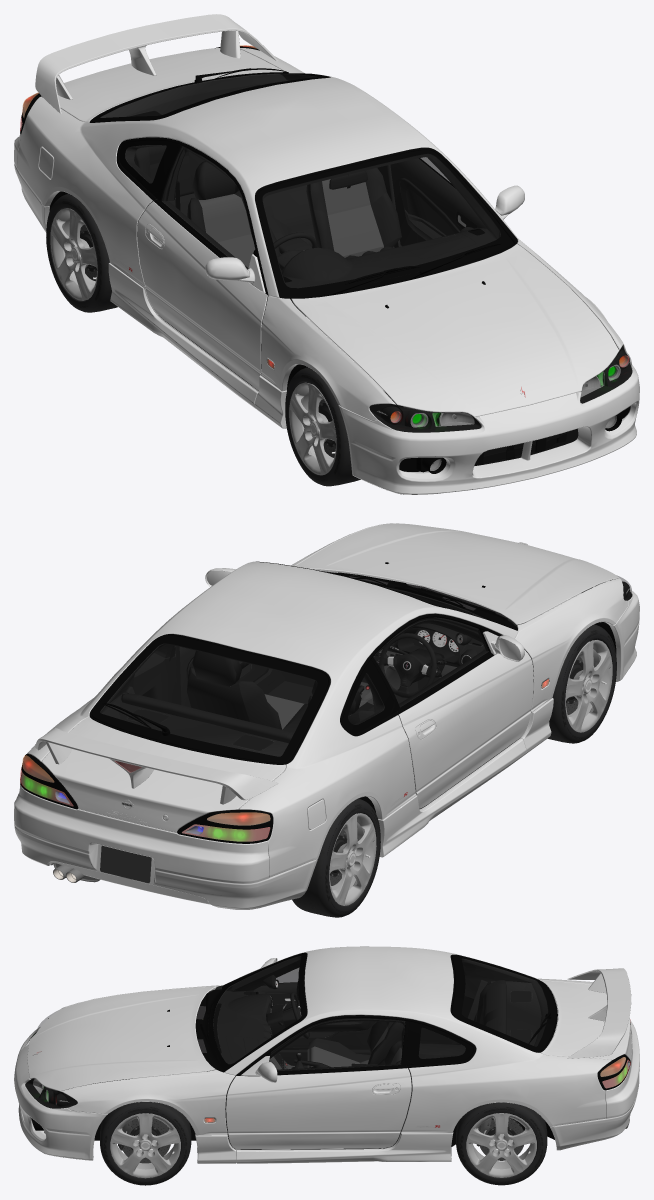
File: car-sable-250.glb
3 views of the same model, one above another, from view 1: azimuth 30°, elevation 25°; view 2: azimuth 150°, elevation 25°; view 3: azimuth 270°, elevation 25° (orthographic). The views are drawn at different scales.
Visible parts, largest first — view 1: N:Hood6_Mesh_021_M_Badge_Max_006, N:Interior5_Mesh_006_M_Opaque_PlasticSmoothBlack_Max2_N:M_In, N:Glass6_Mesh_005_M_Opaque_PlasticRoughBlack_Max5_N:M_Glass_, N:BumperF6_Mesh_011_M_Chassis_Max_009, N:Chassis6_Mesh_M_Opaque_PlasticSmoothBlack_Max_N:M_CarPaint, N:FendersR6_Mesh_018_M_Badge_Max_003, N:DoorR4_Mesh_003_M_InteriorTiledSimple_Max3_N:M_CarPaint_Ma, N:FenderFR6_Mesh_015_M_Opaque_PlasticRoughBlack_Max_008_N:M_, N:Boot6_Mesh_008_M_Badge_Max_004, N:Spoiler6_Mesh_027_M_Light_Max_005, N:DoorR_Glass4_Mesh_004_M_Opaque_PlasticRoughBlack_Max1_N:M_, N:Chassis6_Mesh_M_Opaque_PlasticSmoothBlack_Max_N:M_Opaque_P (+21 smaller); view 2: N:Interior5_Mesh_006_M_Opaque_PlasticSmoothBlack_Max2_N:M_In, N:Chassis6_Mesh_M_Opaque_PlasticSmoothBlack_Max_N:M_CarPaint, N:FendersR6_Mesh_018_M_Badge_Max_003, N:BumperR6_Mesh_012_M_Opaque_PlasticRoughBlack_Max_005_N:M_C, N:Hood6_Mesh_021_M_Badge_Max_006, N:Glass6_Mesh_005_M_Opaque_PlasticRoughBlack_Max6_N:M_Glass_, N:DoorR4_Mesh_003_M_InteriorTiledSimple_Max3_N:M_CarPaint_Ma, N:Boot6_Mesh_008_M_Badge_Max_004, N:DoorR_Glass4_Mesh_004_M_Opaque_PlasticRoughBlack_Max1_N:M_, N:FenderFR6_Mesh_015_M_Opaque_PlasticRoughBlack_Max_008_N:M_, N:Glass6_Mesh_005_M_Opaque_PlasticRoughBlack_Max8_N:M_Glass_, N:Chassis6_Mesh_M_Opaque_PlasticSmoothBlack_Max_N:M_Opaque_P (+20 smaller); view 3: N:Interior5_Mesh_006_M_Opaque_PlasticSmoothBlack_Max2_N:M_In, N:FendersR6_Mesh_018_M_Badge_Max_003, N:Hood6_Mesh_021_M_Badge_Max_006, N:DoorL4_Mesh_001_M_InteriorTiledSimple_Max3_N:M_CarPaint_Ma, N:Chassis6_Mesh_M_Opaque_PlasticSmoothBlack_Max_N:M_CarPaint, N:Glass6_Mesh_005_M_Opaque_PlasticRoughBlack_Max5_N:M_Glass_, N:FenderFL6_Mesh_014_M_Opaque_PlasticRoughBlack_Max_007_N:M_, N:DoorL_Glass4_Mesh_002_M_Opaque_PlasticRoughBlack_Max1_N:M_, N:Glass6_Mesh_005_M_Opaque_PlasticRoughBlack_Max6_N:M_Glass_, N:Skirts6_Mesh_026_M_Opaque_PlasticRoughBlack_Max_010_N:M_Ca, N:BumperF6_Mesh_011_M_Chassis_Max_009, N:Boot6_Mesh_008_M_Badge_Max_004 (+21 smaller).
Boxes of the visible parts, <box> form: N:Hood6_Mesh_021_M_Badge_Max_006: <box>291,244,619,417</box>; N:Interior5_Mesh_006_M_Opaque_PlasticSmoothBlack_Max2_N:M_In: <box>101,74,500,390</box>; N:Glass6_Mesh_005_M_Opaque_PlasticRoughBlack_Max5_N:M_Glass_: <box>263,154,500,287</box>; N:BumperF6_Mesh_011_M_Chassis_Max_009: <box>338,362,639,494</box>; N:Chassis6_Mesh_M_Opaque_PlasticSmoothBlack_Max_N:M_CarPaint: <box>61,52,619,391</box>; N:FendersR6_Mesh_018_M_Badge_Max_003: <box>17,48,517,297</box>; N:DoorR4_Mesh_003_M_InteriorTiledSimple_Max3_N:M_CarPaint_Ma: <box>137,201,267,390</box>; N:FenderFR6_Mesh_015_M_Opaque_PlasticRoughBlack_Max_008_N:M_: <box>261,295,395,420</box>; N:Boot6_Mesh_008_M_Badge_Max_004: <box>41,48,283,121</box>; N:Spoiler6_Mesh_027_M_Light_Max_005: <box>35,14,278,113</box>; N:DoorR_Glass4_Mesh_004_M_Opaque_PlasticRoughBlack_Max1_N:M_: <box>162,146,254,268</box>; N:Chassis6_Mesh_M_Opaque_PlasticSmoothBlack_Max_N:M_Opaque_P: <box>89,68,517,303</box>; N:Interior5_Mesh_006_M_Opaque_PlasticSmoothBlack_Max2_N:M_In: <box>100,588,521,809</box>; N:Chassis6_Mesh_M_Opaque_PlasticSmoothBlack_Max_N:M_CarPaint: <box>40,561,609,809</box>; N:FendersR6_Mesh_018_M_Badge_Max_003: <box>27,563,517,877</box>; N:BumperR6_Mesh_012_M_Opaque_PlasticRoughBlack_Max_005_N:M_C: <box>14,784,317,909</box>; N:Hood6_Mesh_021_M_Badge_Max_006: <box>295,523,618,624</box>; N:Glass6_Mesh_005_M_Opaque_PlasticRoughBlack_Max6_N:M_Glass_: <box>100,643,316,756</box>; N:DoorR4_Mesh_003_M_InteriorTiledSimple_Max3_N:M_CarPaint_Ma: <box>398,631,533,808</box>; N:Boot6_Mesh_008_M_Badge_Max_004: <box>41,717,285,832</box>; N:DoorR_Glass4_Mesh_004_M_Opaque_PlasticRoughBlack_Max1_N:M_: <box>373,617,488,706</box>; N:FenderFR6_Mesh_015_M_Opaque_PlasticRoughBlack_Max_008_N:M_: <box>514,578,628,712</box>; N:Glass6_Mesh_005_M_Opaque_PlasticRoughBlack_Max8_N:M_Glass_: <box>91,635,328,763</box>; N:Chassis6_Mesh_M_Opaque_PlasticSmoothBlack_Max_N:M_Opaque_P: <box>89,561,516,764</box>; N:Interior5_Mesh_006_M_Opaque_PlasticSmoothBlack_Max2_N:M_In: <box>213,956,547,1149</box>; N:FendersR6_Mesh_018_M_Badge_Max_003: <box>224,946,611,1133</box>; N:Hood6_Mesh_021_M_Badge_Max_006: <box>27,986,215,1091</box>; N:DoorL4_Mesh_001_M_InteriorTiledSimple_Max3_N:M_CarPaint_Ma: <box>226,1056,411,1149</box>; N:Chassis6_Mesh_M_Opaque_PlasticSmoothBlack_Max_N:M_CarPaint: <box>60,946,558,1091</box>; N:Glass6_Mesh_005_M_Opaque_PlasticRoughBlack_Max5_N:M_Glass_: <box>213,956,300,1063</box>; N:FenderFL6_Mesh_014_M_Opaque_PlasticRoughBlack_Max_007_N:M_: <box>60,1069,235,1135</box>; N:DoorL_Glass4_Mesh_002_M_Opaque_PlasticRoughBlack_Max1_N:M_: <box>269,1018,404,1070</box>; N:Glass6_Mesh_005_M_Opaque_PlasticRoughBlack_Max6_N:M_Glass_: <box>462,959,547,1046</box>; N:Skirts6_Mesh_026_M_Opaque_PlasticRoughBlack_Max_010_N:M_Ca: <box>195,1132,453,1163</box>; N:BumperF6_Mesh_011_M_Chassis_Max_009: <box>14,1027,107,1160</box>; N:Boot6_Mesh_008_M_Badge_Max_004: <box>541,980,632,1060</box>.
Size of the model in its own units: 0.0195 by 0.0128 by 0.0444.
Materials: 29 (9 with a texture image).
